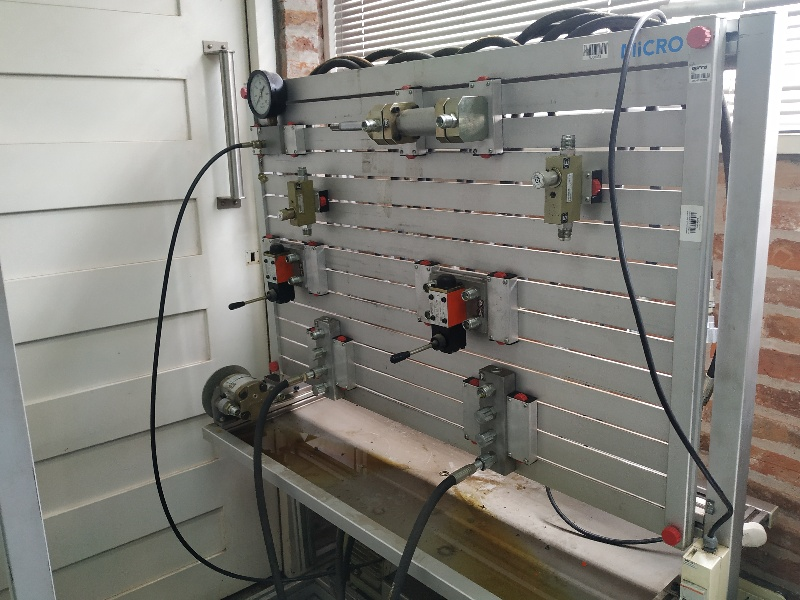Tablero 5: (243, 71, 700, 532)
